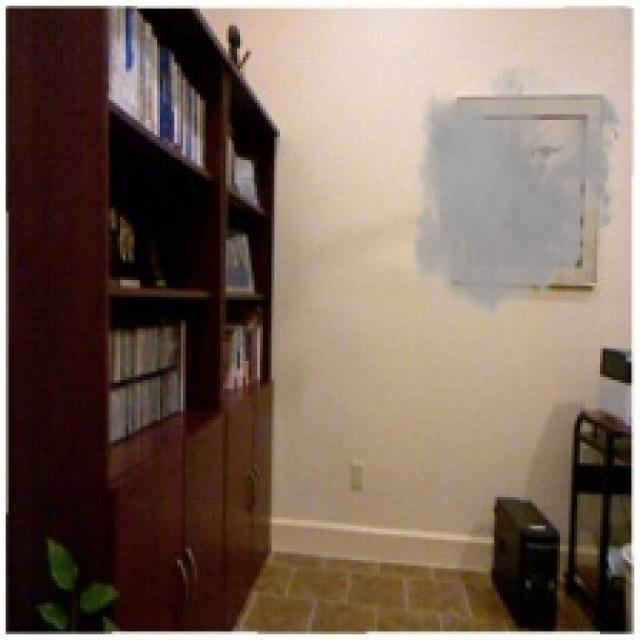Smoke: (402, 48, 628, 332)
